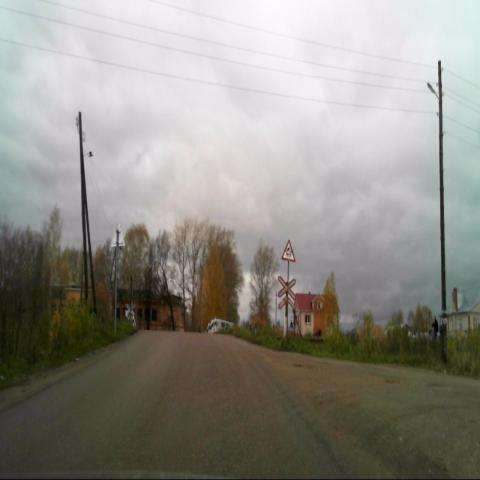1_2: (280, 237, 296, 262)
